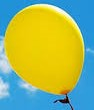Balloon: (4, 4, 84, 96)
